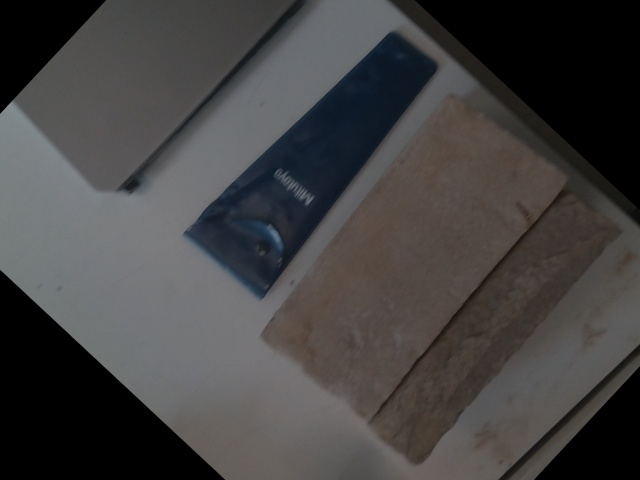brick: (264, 94, 557, 420)
